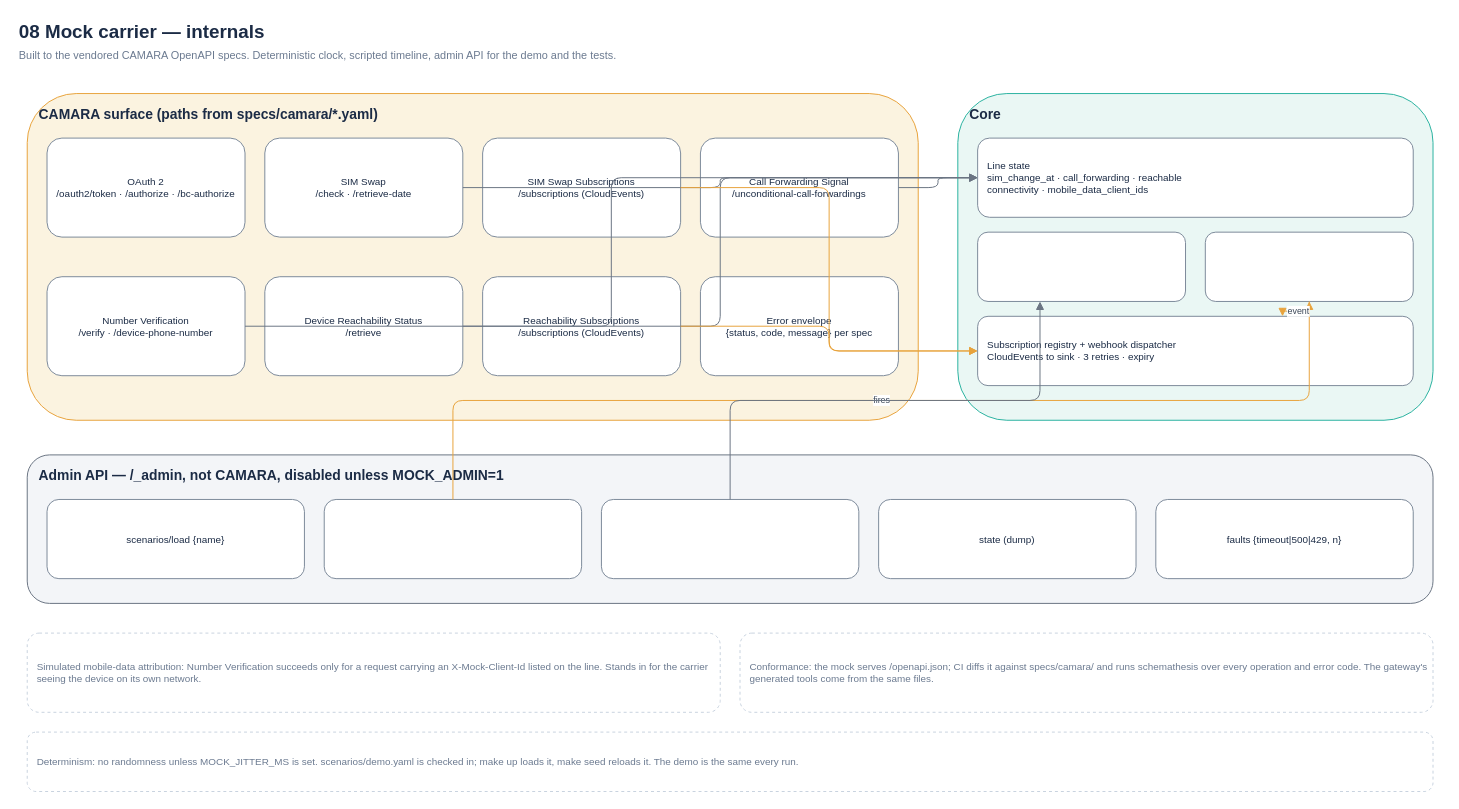
The diagram is 1459 pixels wide and 809 high, and some of its shapes have lost their labels. The shapes that lost their labels are listed below. From the top down, each one's centre as x and y in pixels, then its label:
[1081,266]: Clock set / advance · all timestamps derive from it
[1308,266]: Timeline scripted events fire as the clock advances
[452,538]: lines/{msisdn}/events sim_swap · cf_set · cf_clear · reachable · unreachable
[729,538]: clock {now | advance_s}
